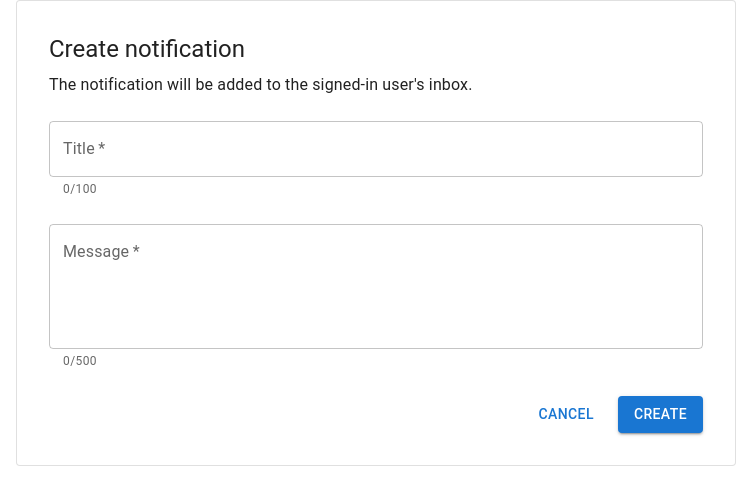
Test: shows validation errors for empty fields
The width and height of the screenshot is (753, 483).
Step 1. Click the button "Create" → (660, 414), box [618,396,703,433]
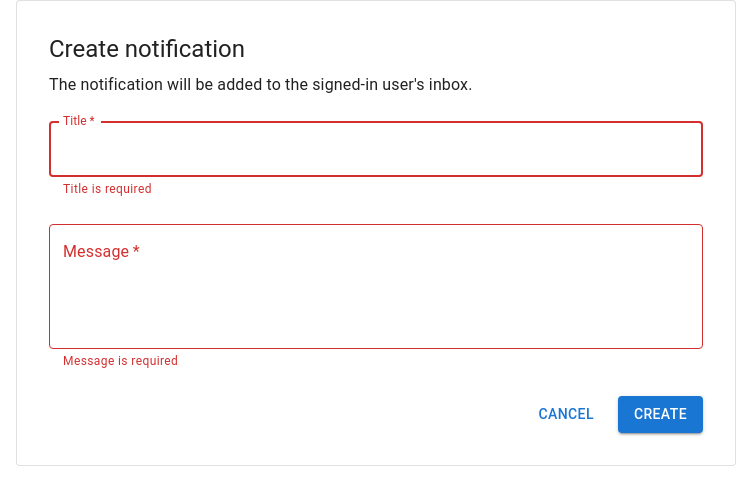
Expected: the text "Title is required" is shown, [63,182,152,196]
Expected: the text "Message is required" is shown, [63,354,178,368]
